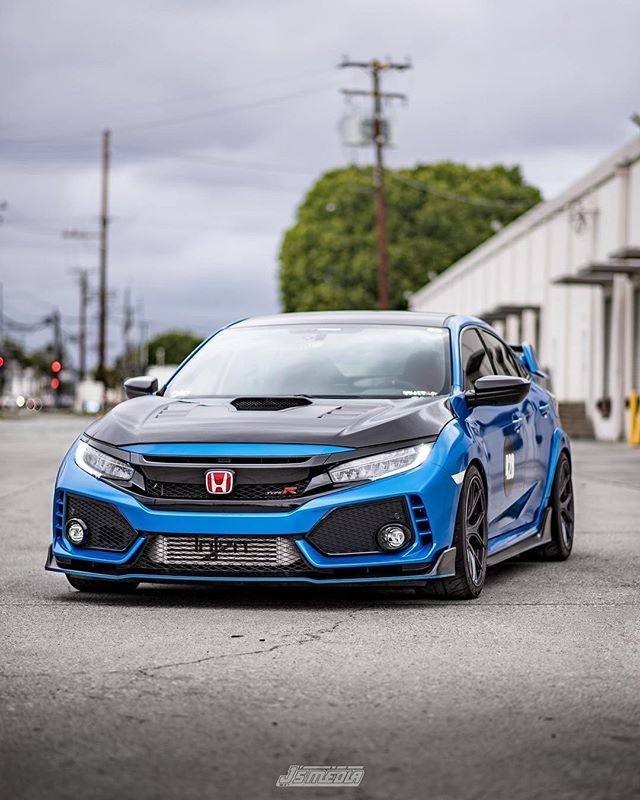araba: (41, 310, 576, 599)
